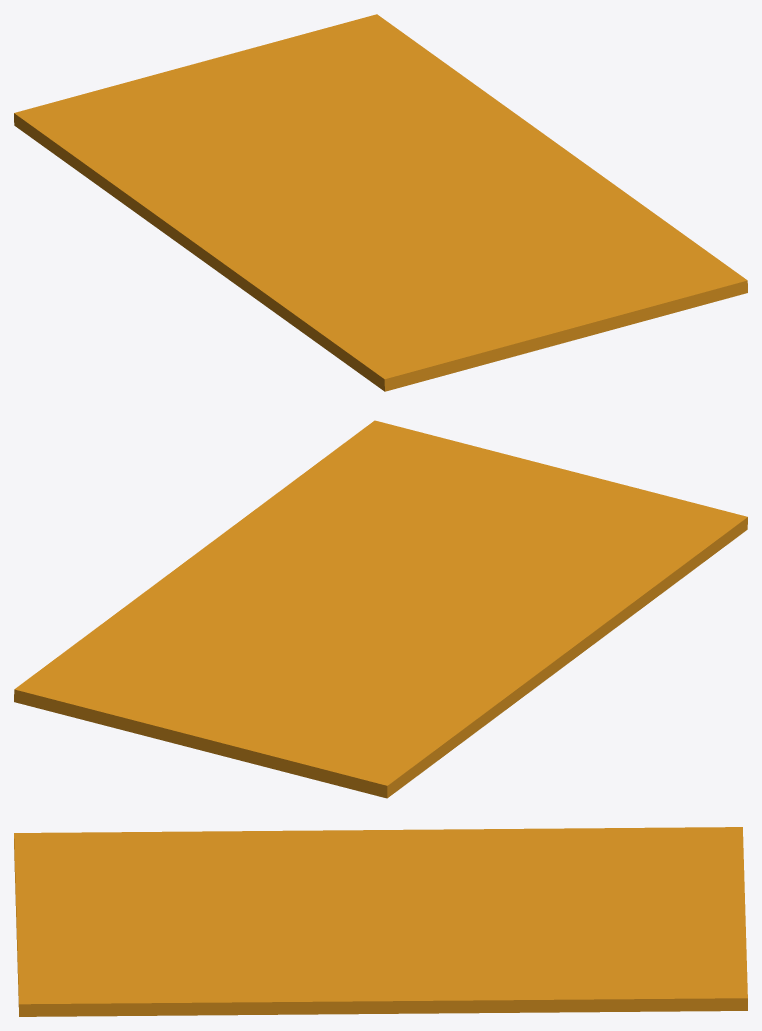
Rendered from beveled_cuboid_selection_lev1_lev3.glb.
3 views of the same model, one above another, from view 1: azimuth 30°, elevation 25°; view 2: azimuth 150°, elevation 25°; view 3: azimuth 270°, elevation 25° (orthographic).
Parts seen in each view (by area): view 1: beveled_cuboid_selection_lev1_lev3; view 2: beveled_cuboid_selection_lev1_lev3; view 3: beveled_cuboid_selection_lev1_lev3.
Boxes of the visible parts, x1,y1,x2,y2 form: beveled_cuboid_selection_lev1_lev3: [14, 14, 747, 391]; beveled_cuboid_selection_lev1_lev3: [14, 420, 747, 798]; beveled_cuboid_selection_lev1_lev3: [14, 827, 747, 1016].
Size of the model in its own units: 2.28 by 0.1326 by 3.87.
1 material, 1 textured.
